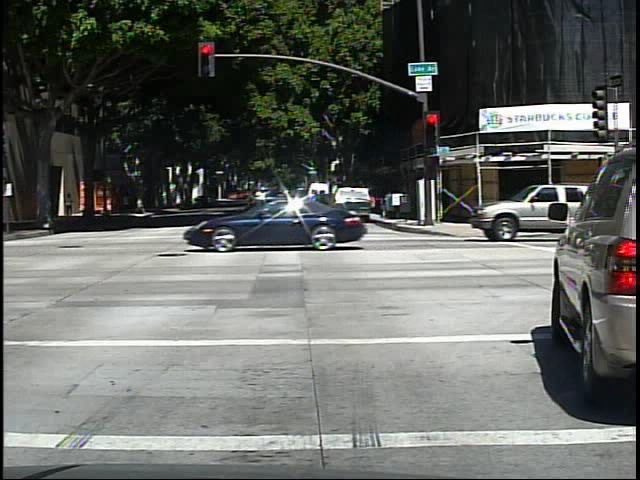person: (63, 191, 76, 221)
